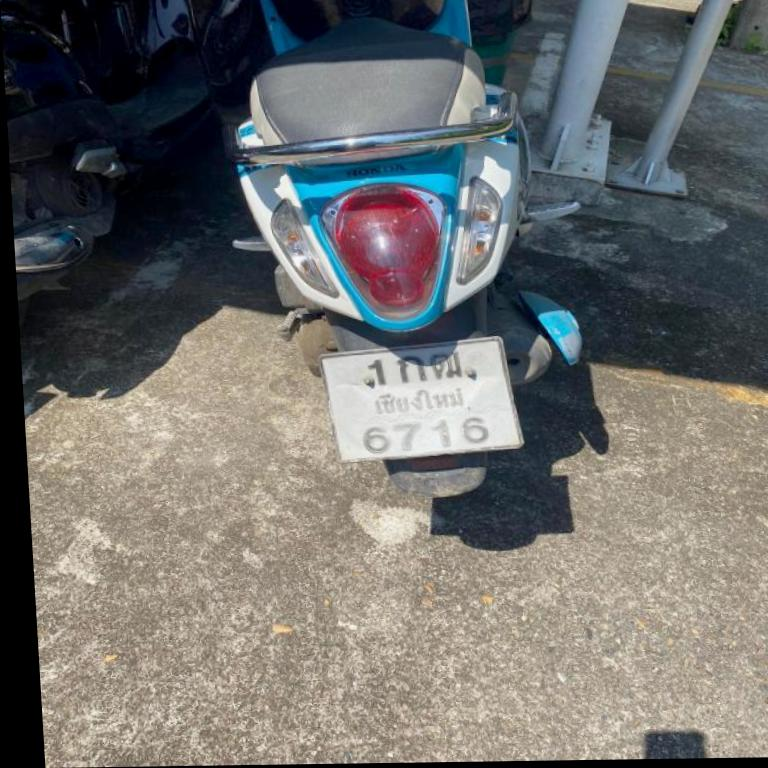license plate: (321, 337, 524, 469)
